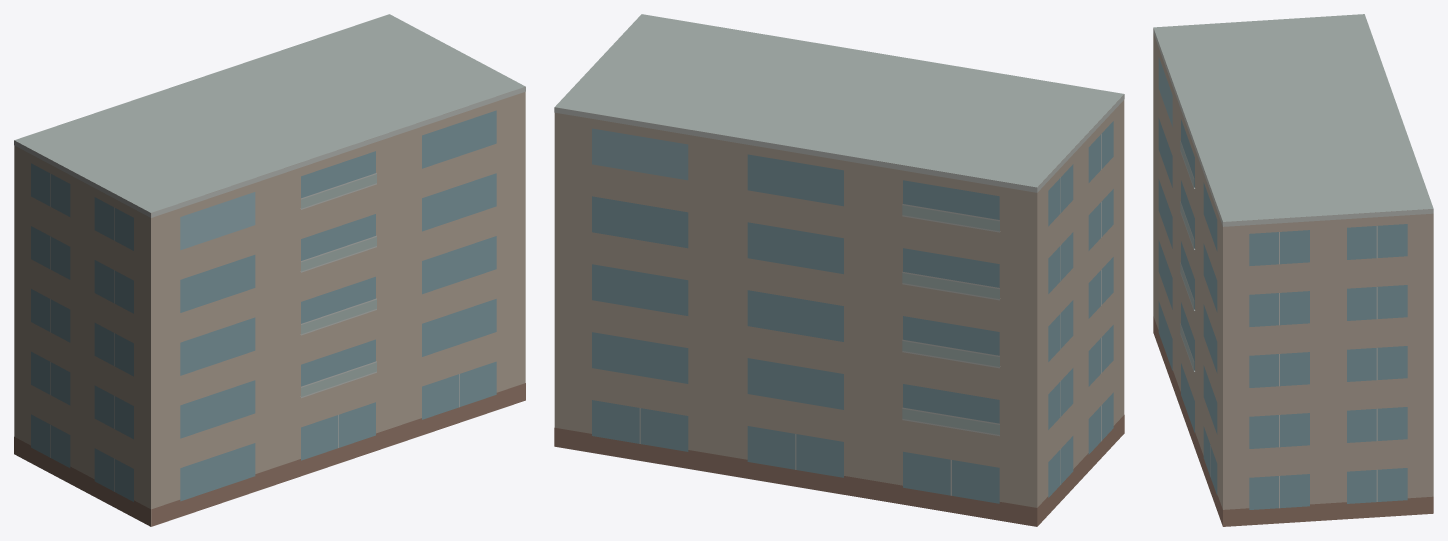
The model's file is survey-upis-32942923.glb.
3 views of the same model, side by side, from view 1: azimuth 30°, elevation 25°; view 2: azimuth 150°, elevation 25°; view 3: azimuth 270°, elevation 25° (orthographic). The views are drawn at different scales.
Visible parts, largest first — view 1: survey-upis-32942923.tmp; view 2: survey-upis-32942923.tmp; view 3: survey-upis-32942923.tmp.
Part boxes in pixels (box(x1,y1,x2,y2)): survey-upis-32942923.tmp: box(14, 14, 525, 526); survey-upis-32942923.tmp: box(554, 14, 1124, 526); survey-upis-32942923.tmp: box(1153, 14, 1433, 526).
Size of the model in its own units: 22.32 by 15.25 by 12.72.
